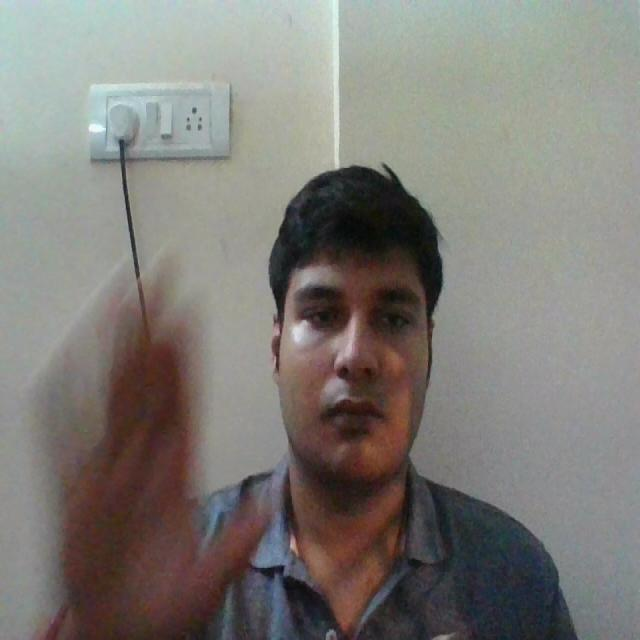Hello: (13, 254, 282, 638)
